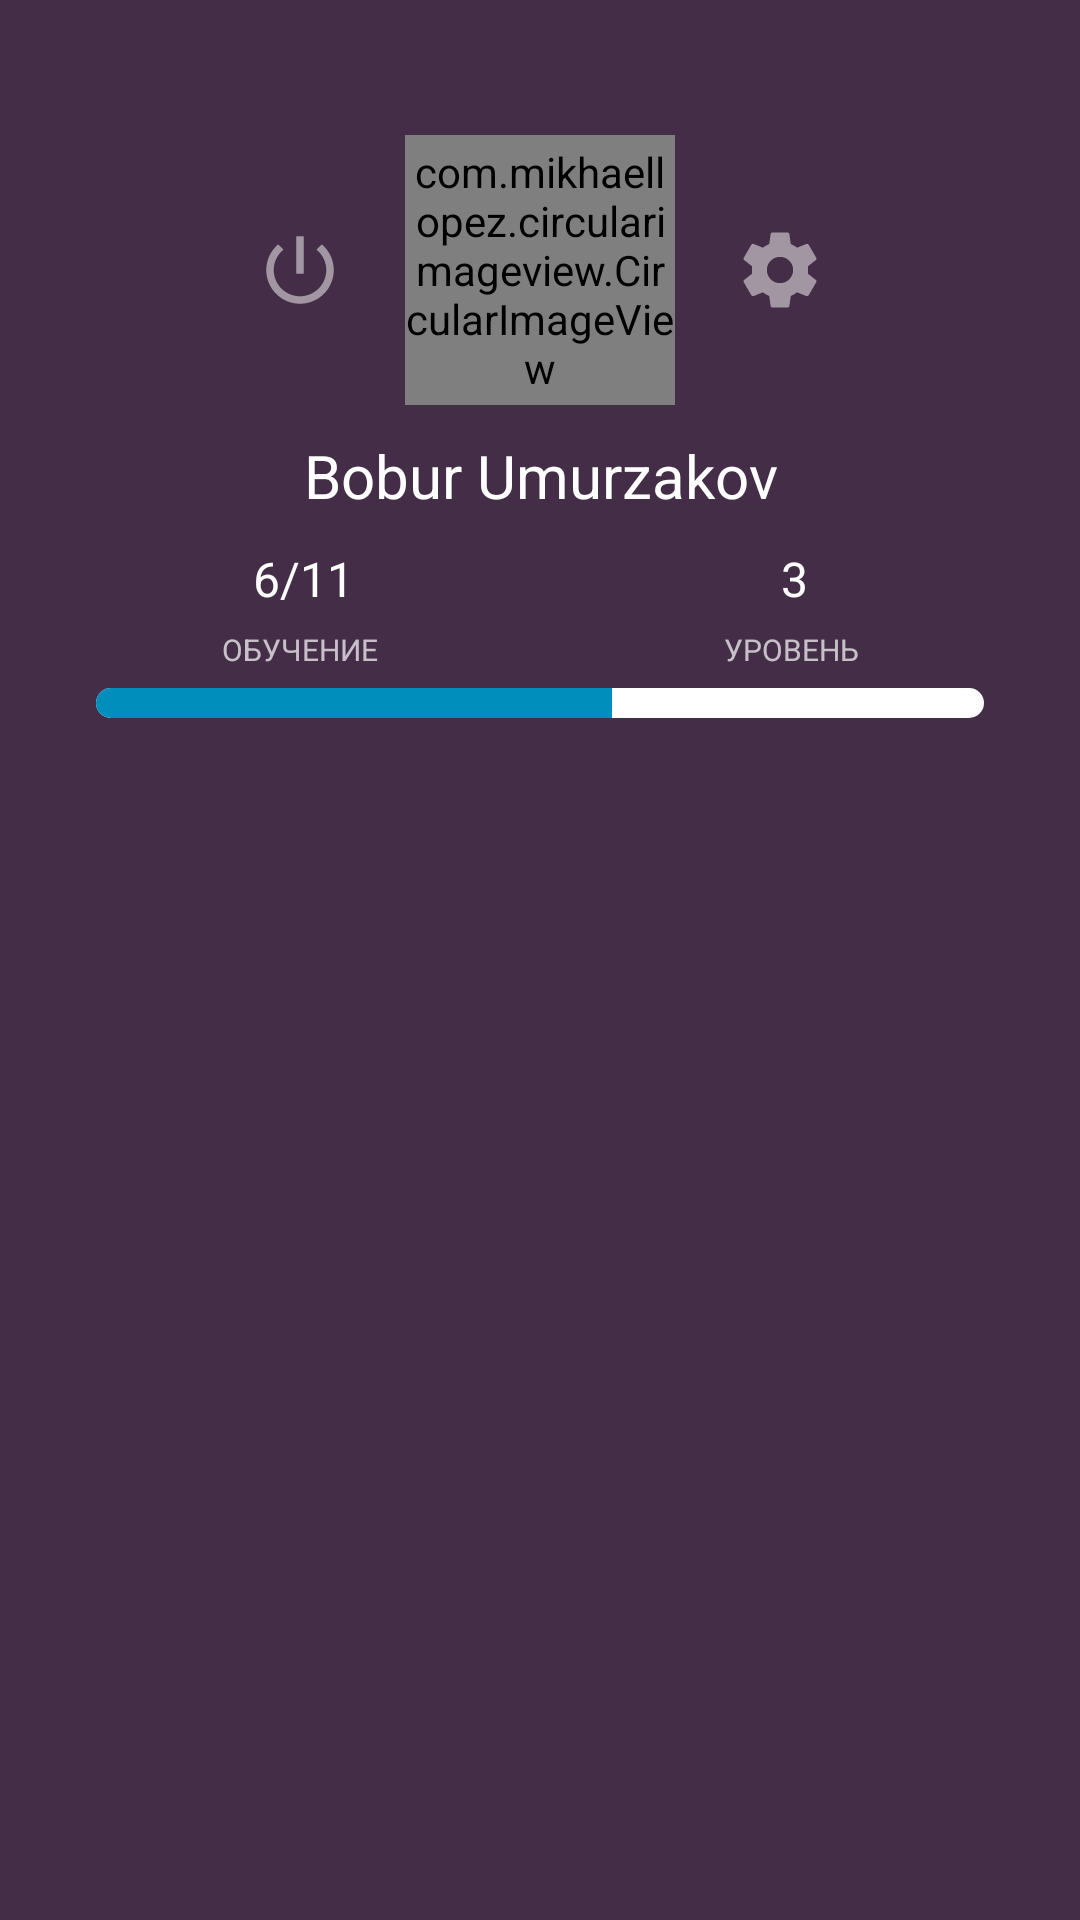

Locate icon controls on the screen. Image size 1080px x 1920px, boxes as (x1, y1, x2, y2).
power settings: (266, 236, 334, 304)
settings: (743, 232, 817, 308)
